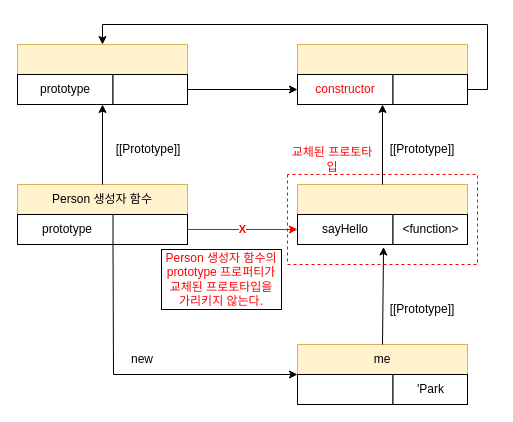
Some shapes in this 513 by 422 pixel diagram are drawn without their labels. Here are the shapes that lost their labels. From the top down, the centre of each, then its label:
point 102,59: Object 생성자 함수
point 382,59: Object.prototype
point 382,199: parent
point 344,389: name
